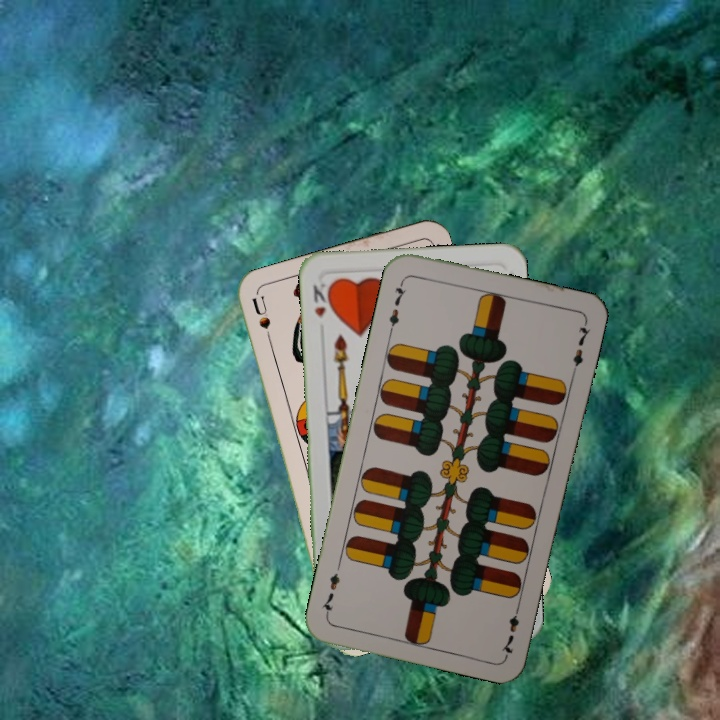E7: (497, 600, 523, 658), (384, 276, 409, 334)
HK: (309, 277, 334, 320)
SU: (248, 293, 276, 352)
